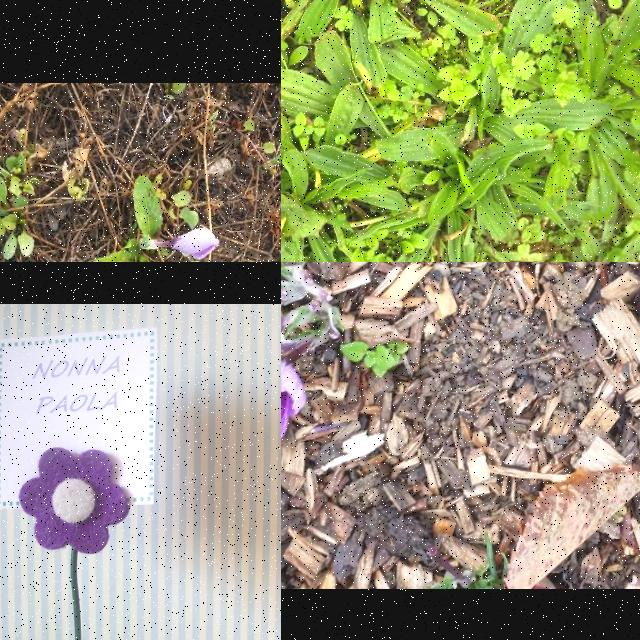flower: (281, 361, 305, 454), (167, 228, 221, 260)
